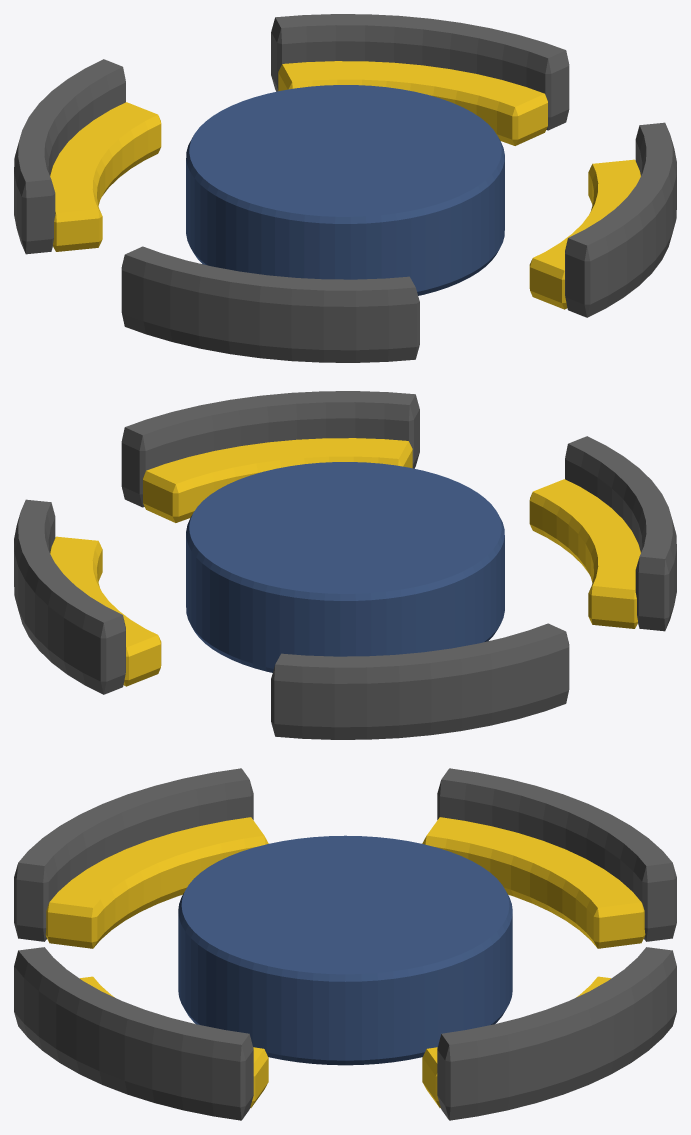
Rendered from CafeteriaRoundTable.fbx.
3 renders of one model, top to bottom at view 1: azimuth 30°, elevation 25°; view 2: azimuth 150°, elevation 25°; view 3: azimuth 270°, elevation 25°, orthographic. The views are drawn at different scales.
Parts seen in each view (by area): view 1: Cylinder, Table, Chairs; view 2: Cylinder, Table, Chairs; view 3: Cylinder, Table, Chairs.
Boxes of the visible parts, <box> form: Cylinder: <box>14,14,676,362</box>; Table: <box>186,85,504,295</box>; Chairs: <box>50,61,640,309</box>; Cylinder: <box>14,391,676,739</box>; Table: <box>186,462,504,672</box>; Chairs: <box>50,438,640,686</box>; Cylinder: <box>14,768,676,1120</box>; Table: <box>178,835,512,1065</box>; Chairs: <box>45,817,645,1108</box>.
Bounding box in the file's own units: 991 × 150 × 991.
